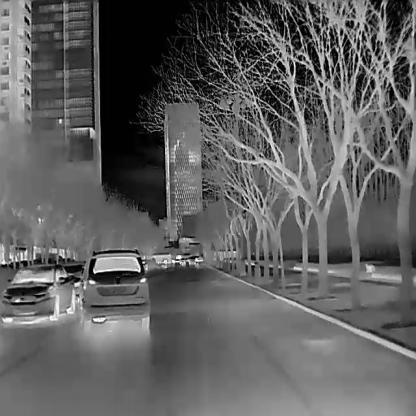car: (80, 246, 150, 330), (0, 262, 75, 323)
